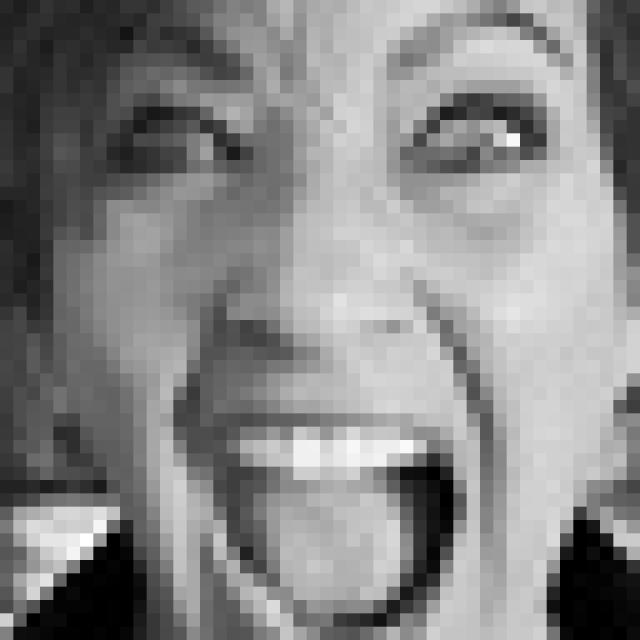angry: (84, 14, 576, 630)
